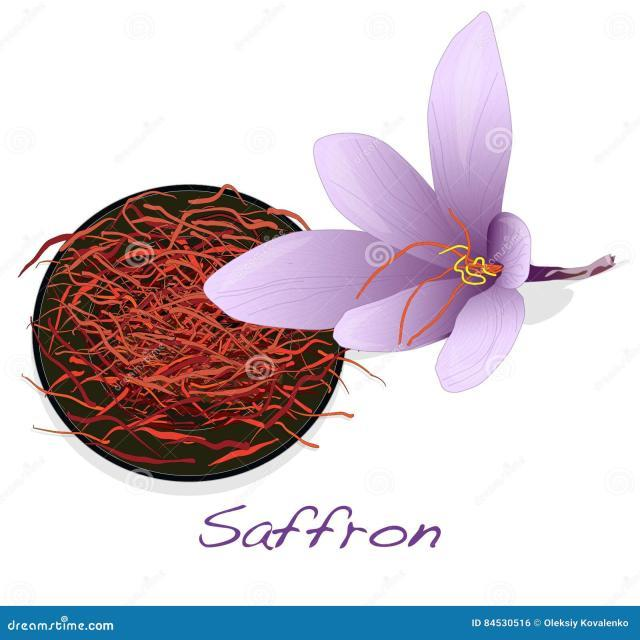Flower: (212, 9, 584, 387)
stigma: (350, 241, 467, 295), (409, 283, 468, 342), (444, 204, 479, 246)
